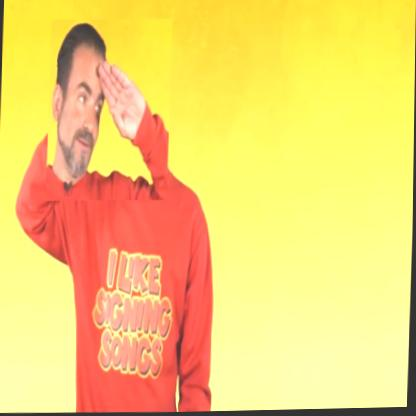Hello: (46, 17, 172, 203)
